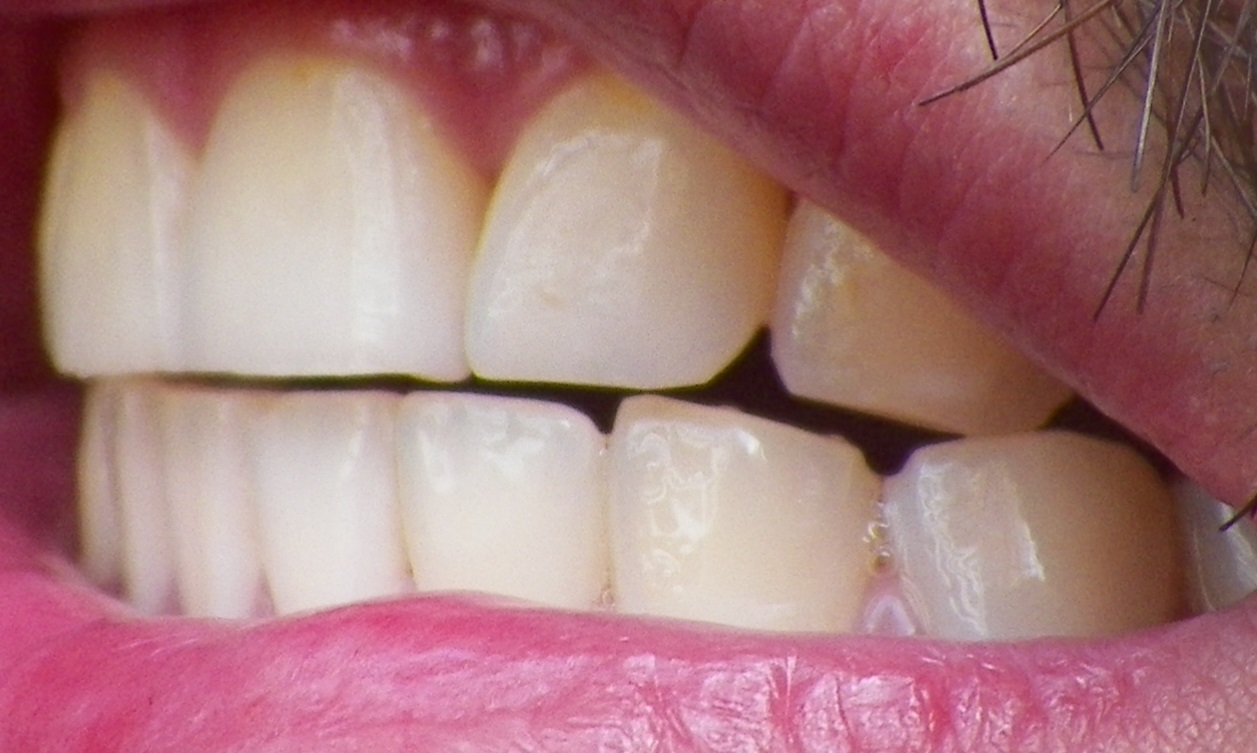boca: (45, 66, 1181, 637)
